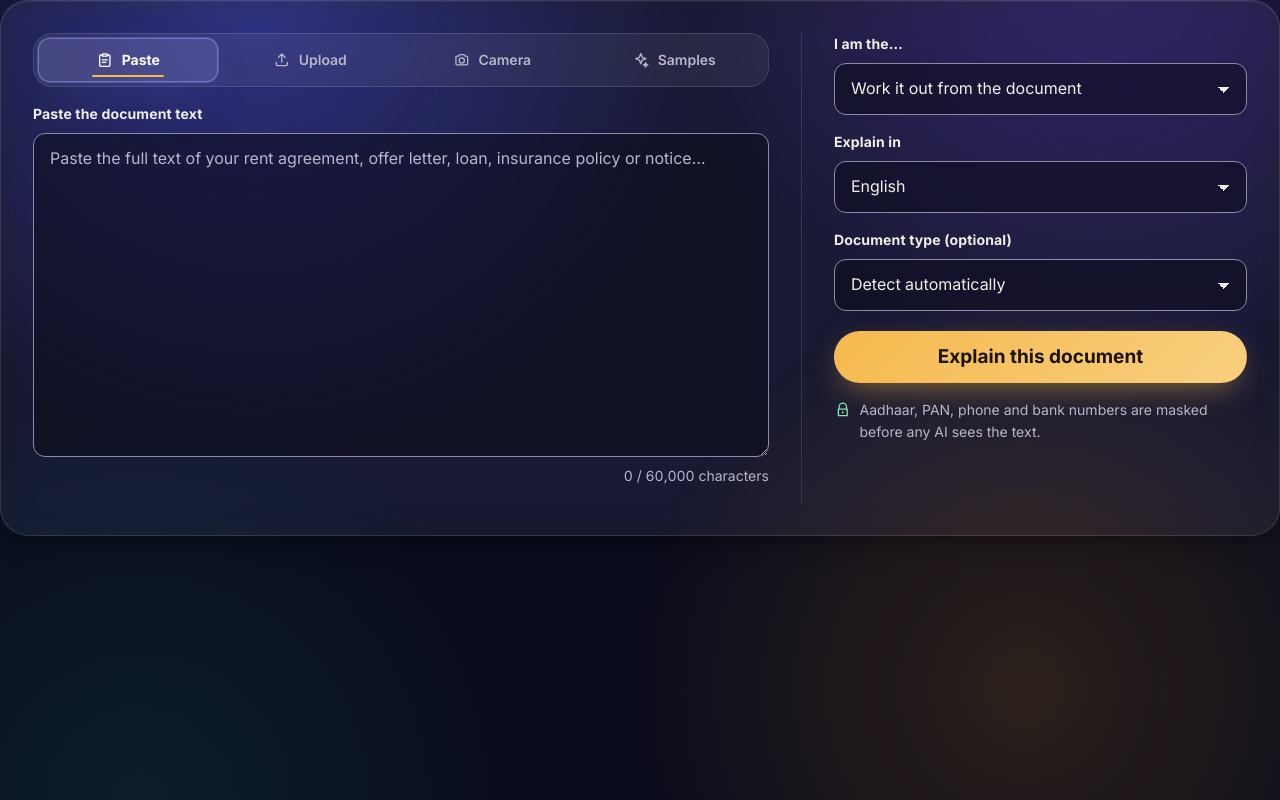
AnalyzeForm › asks for input when nothing is provided
What coordinates should you click on to do the following:
click the button "Explain this document"
I would click on:
 (1040, 357)
Its box is [834, 331, 1247, 383].
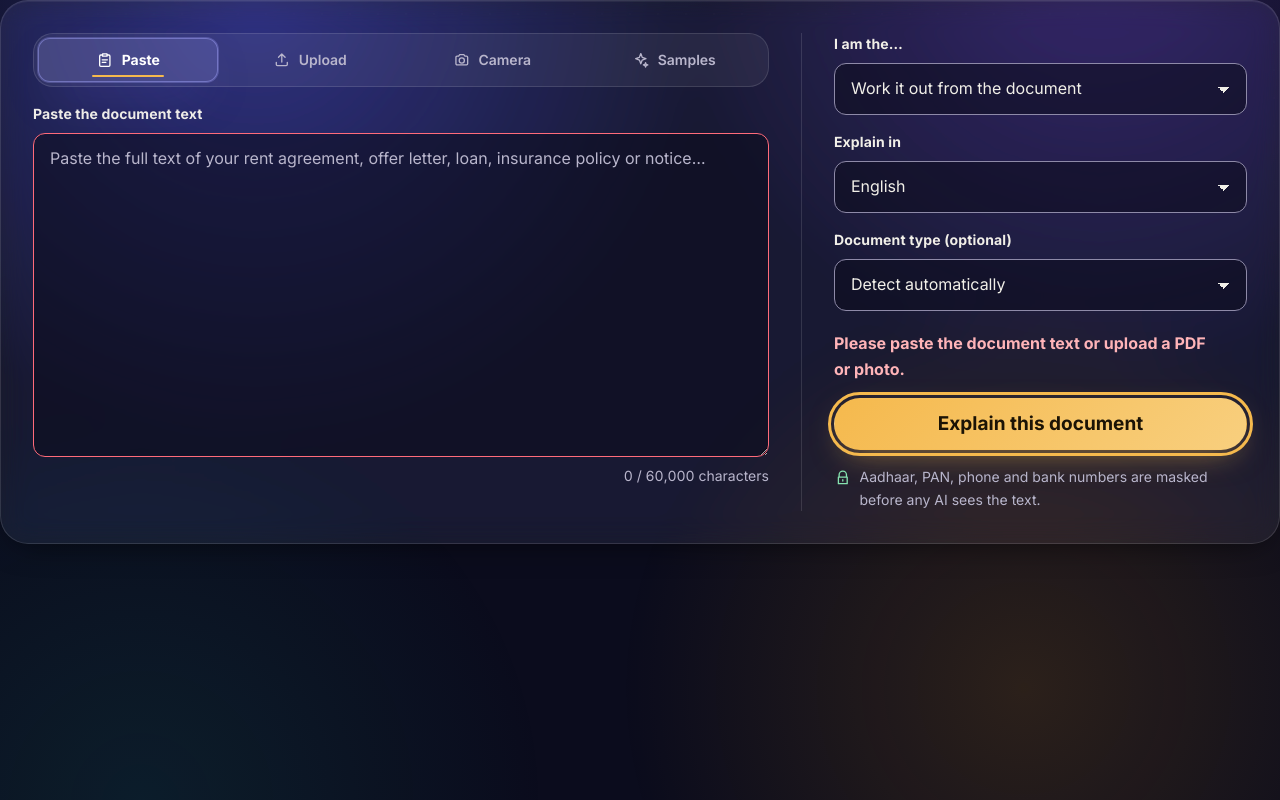
expect the message shows "paste the document text or upload": met, box [834, 333, 1206, 379]
